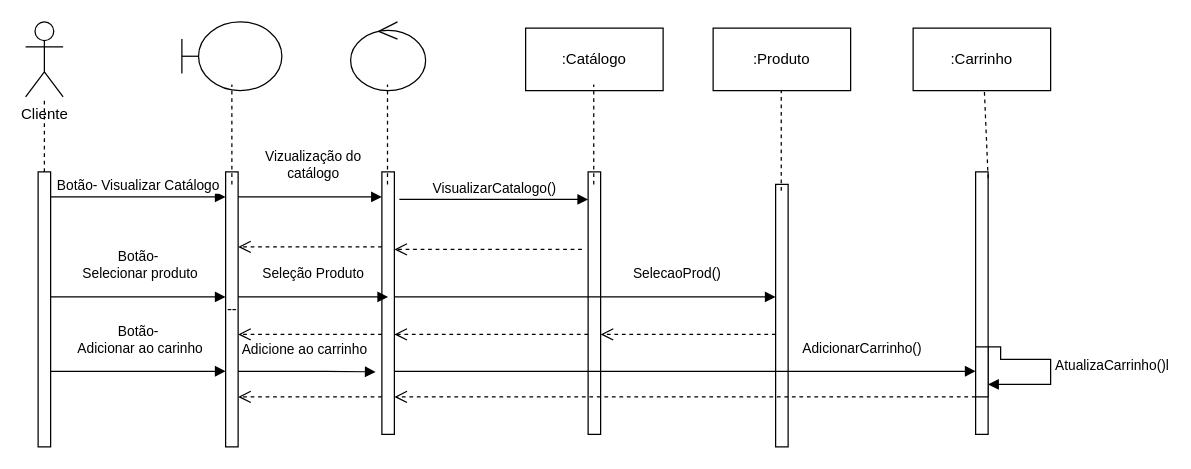
Some shapes in this 1191 by 469 pixel diagram are drawn without their labels. Each missing label, with the box of its shape:
Controller: (349, 21, 426, 91)
Interface: (181, 21, 282, 91)
